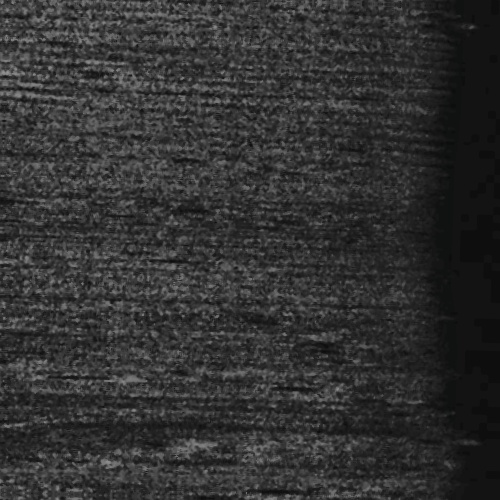object: (37, 199, 100, 208)
shadow: (0, 199, 68, 208)
